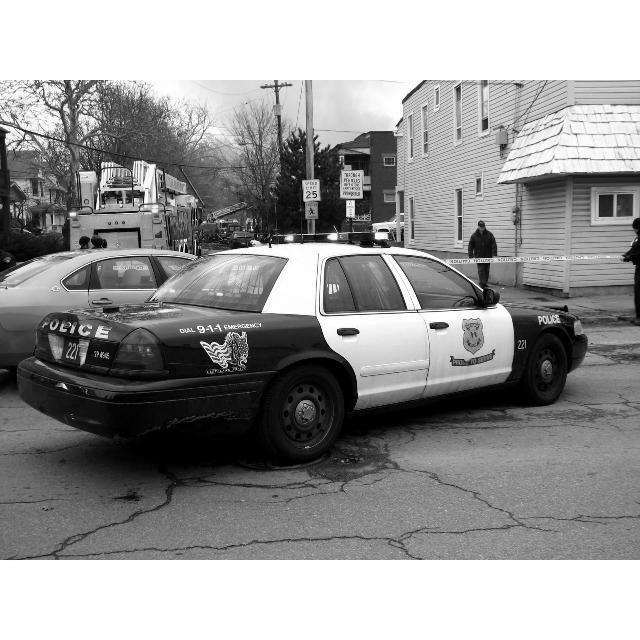rear-bumper-dent: (15, 364, 242, 435)
